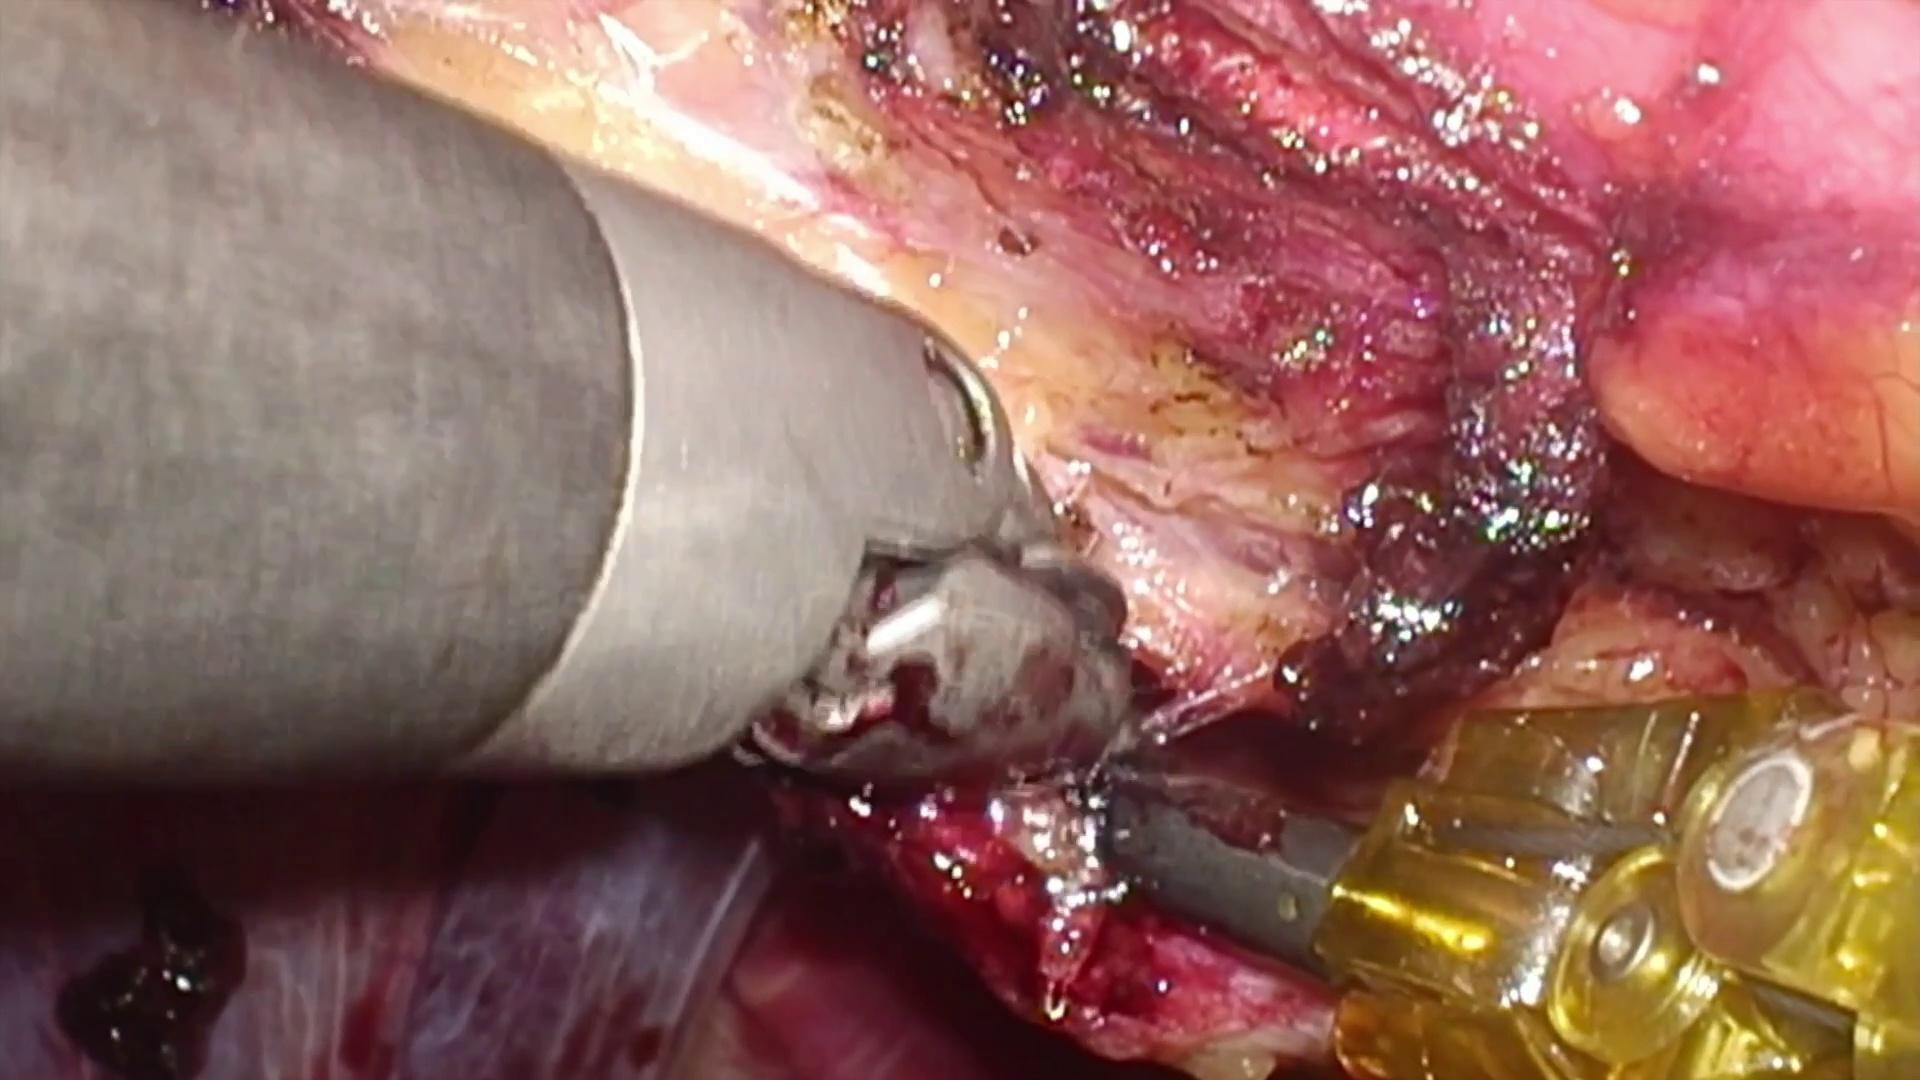Cautery_Spatula: (1069, 761, 1360, 967)
